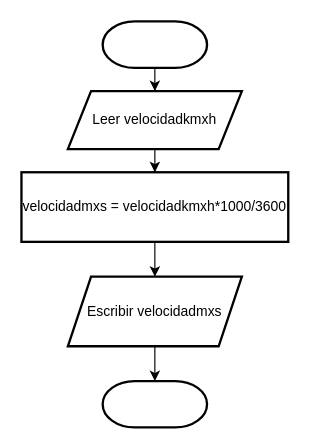
This 309x448 diagram has some shape labels left out. The box of each missing label's shape, as (x1, y1, x2, y2) in pixels:
Fin: (101, 379, 208, 428)
Inicio: (101, 20, 208, 68)
